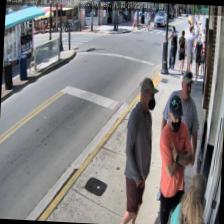person: (154, 68, 202, 216), (117, 76, 158, 224), (154, 94, 195, 224), (168, 171, 206, 224)
